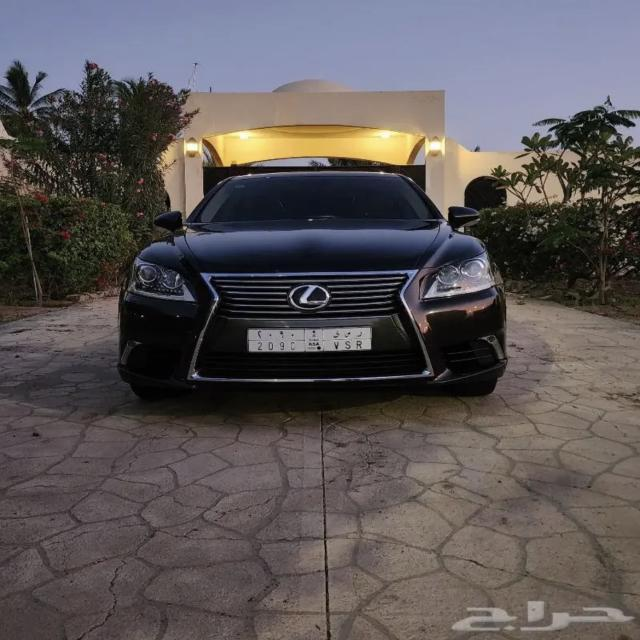license_plate: (246, 328, 374, 352)
